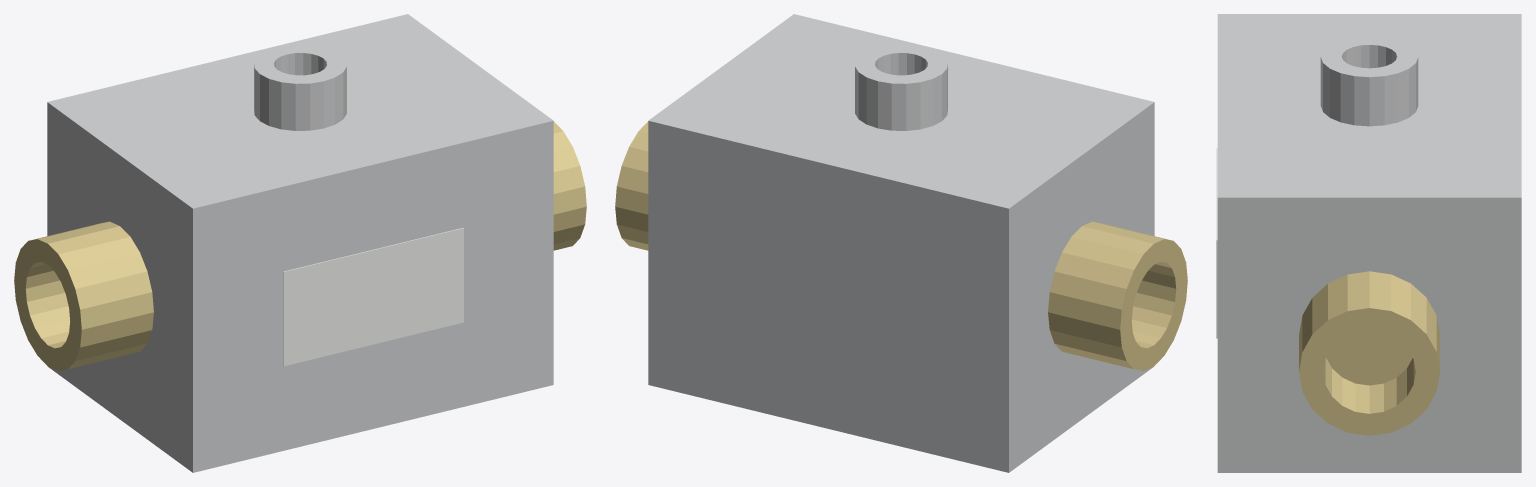
The model's file is valve-pinch-22no.glb.
3 renders of one model, left to right at view 1: azimuth 30°, elevation 25°; view 2: azimuth 150°, elevation 25°; view 3: azimuth 270°, elevation 25°, orthographic. The views are drawn at different scales.
Visible parts, largest first — view 1: body, port-in, port-10, port-out; view 2: body, port-in, port-10, port-out; view 3: body, port-out, port-10.
Part boxes in pixels (x1=…): body: x1=47, y1=14, x2=553, y2=472; port-in: x1=14, y1=221, x2=153, y2=370; port-10: x1=254, y1=44, x2=346, y2=130; port-out: x1=553, y1=121, x2=586, y2=250; body: x1=648, y1=14, x2=1154, y2=472; port-in: x1=1048, y1=221, x2=1187, y2=370; port-10: x1=855, y1=44, x2=947, y2=130; port-out: x1=615, y1=121, x2=648, y2=250; body: x1=1216, y1=14, x2=1521, y2=472; port-out: x1=1299, y1=271, x2=1439, y2=435; port-10: x1=1320, y1=36, x2=1418, y2=126.
Size of what is drawn, in the model's own units: 0.112 by 0.066 by 0.0562.
